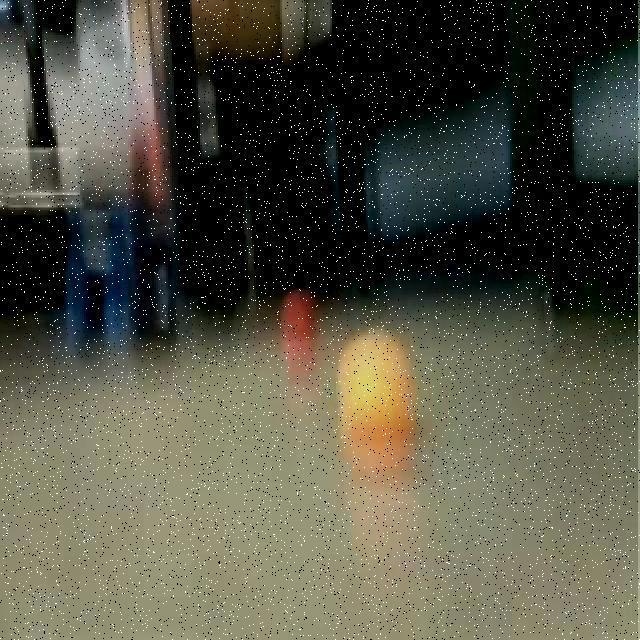ping-pong-ball: (336, 331, 421, 468), (280, 282, 319, 347)
